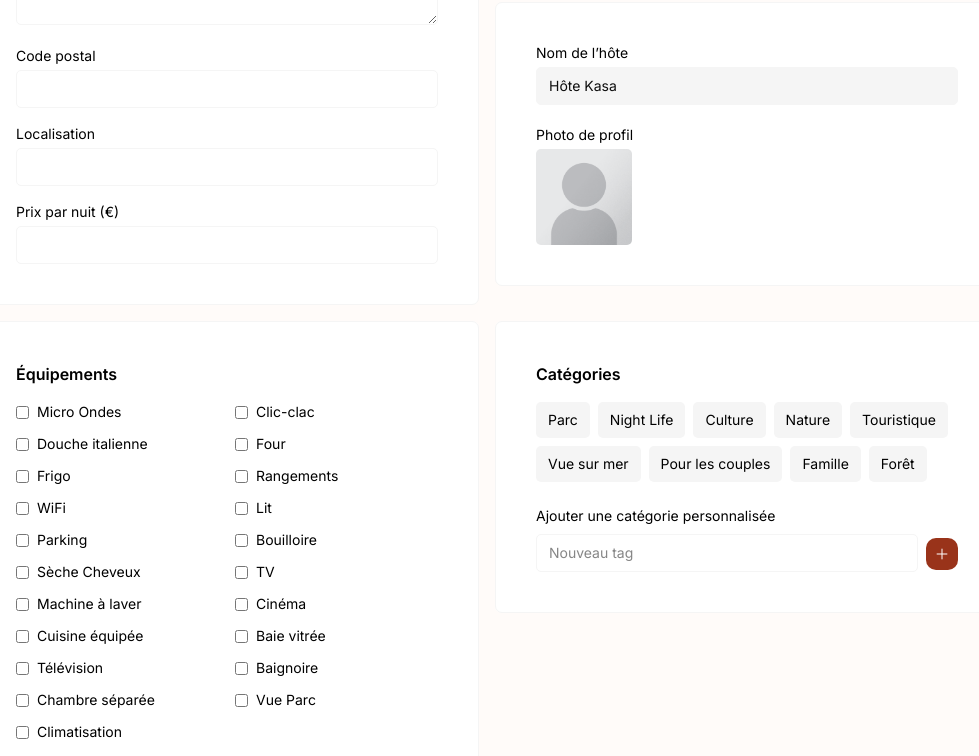
Scenario: CreatePropertyForm › reuses the custom category field to add multiple categories
(page scrolled)
Type "Terrasse" into the field named "Tag personnalisé 1".
click(727, 553); type("Terrasse")  # box [536,534,918,572]
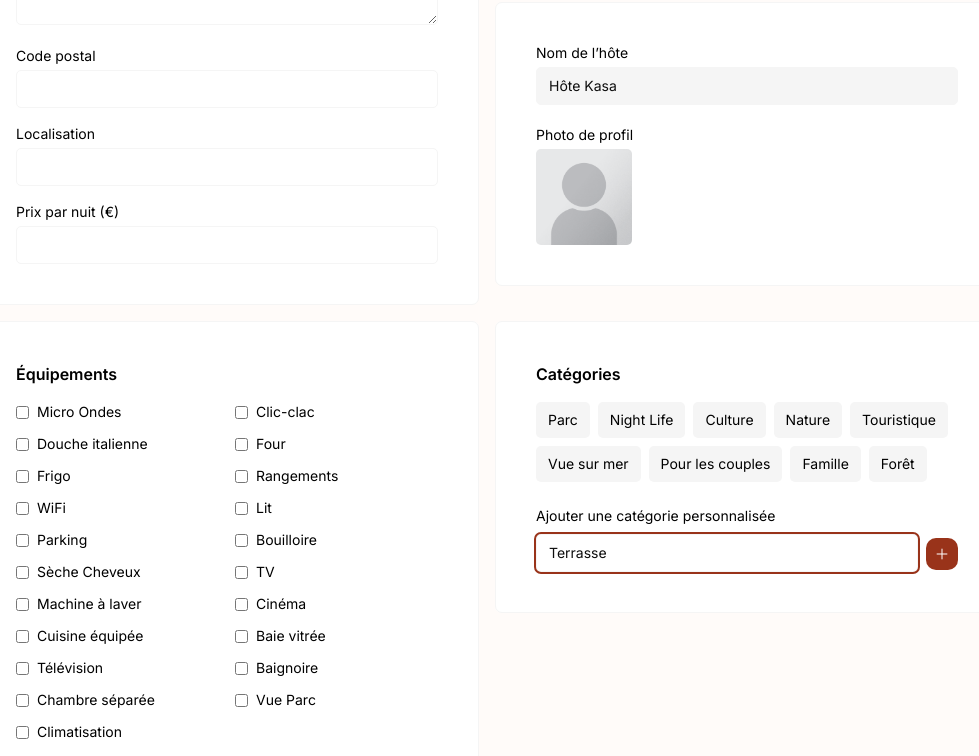
Click the button named "Ajouter ce tag".
click(942, 554)  # box [926,538,958,570]
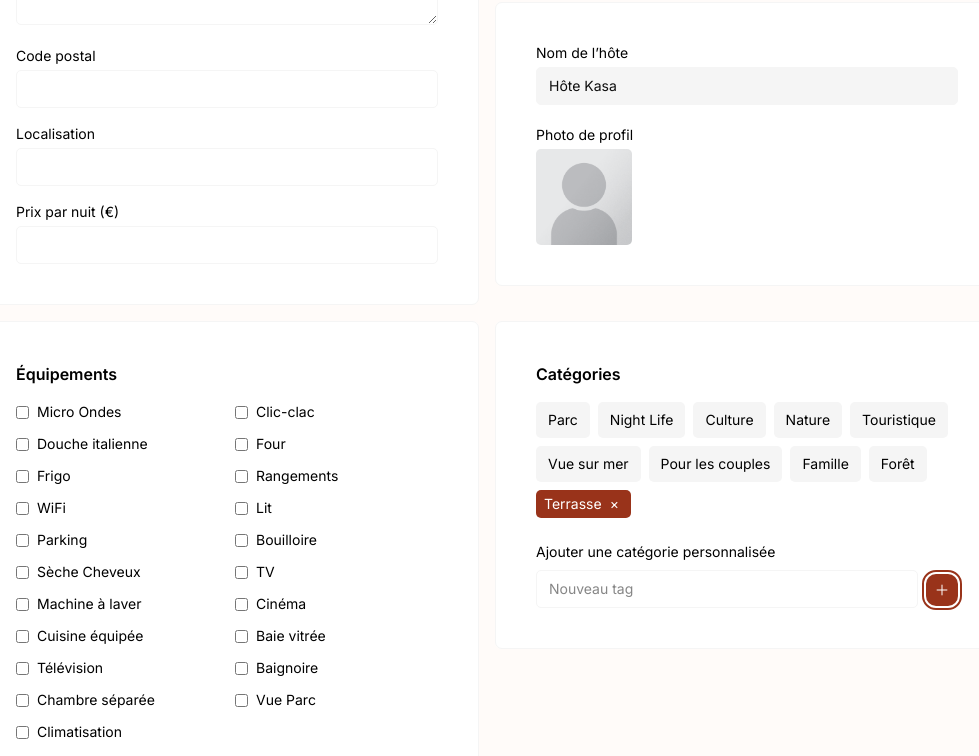
Expected: the field named "Tag personnalisé 1" is empty
Type "Balcon" into the field named "Tag personnalisé 1".
click(727, 589); type("Balcon")  # box [536,570,918,608]
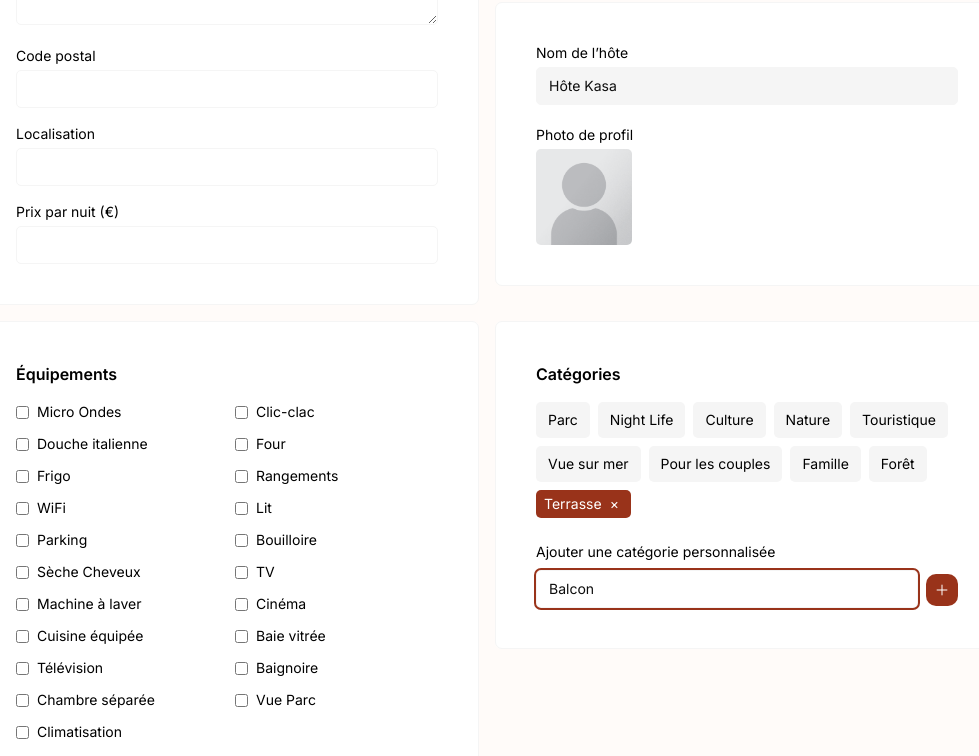
Click the button named "Ajouter ce tag".
click(942, 590)  # box [926,574,958,606]
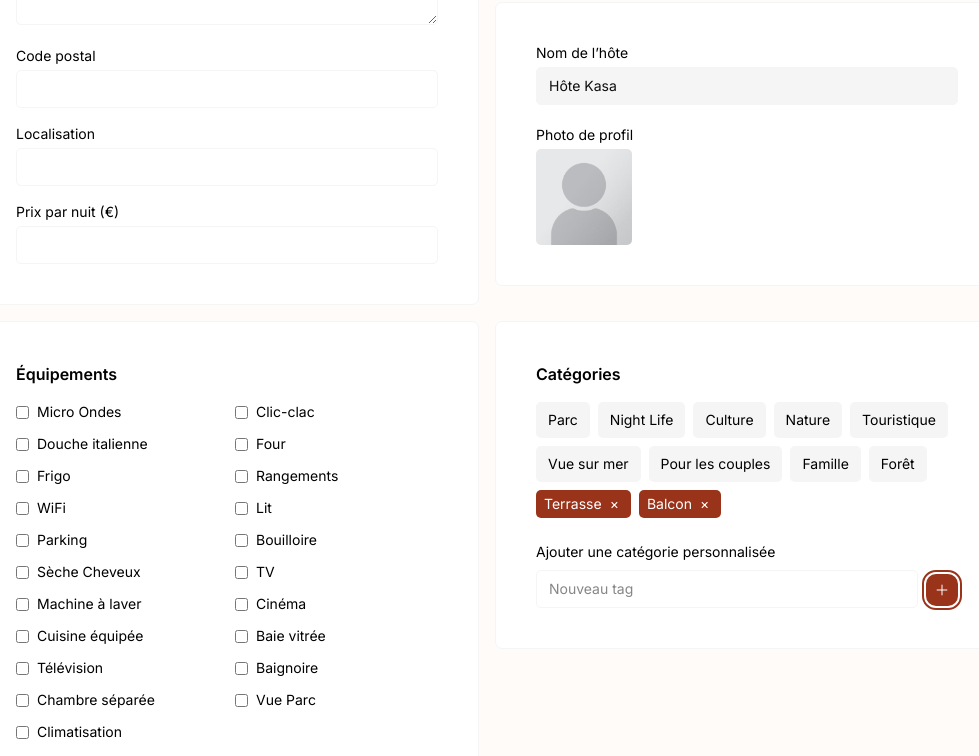
Expected: the button named "Retirer la catégorie Terrasse" is shown, [606,494,623,514]
Expected: the button named "Retirer la catégorie Balcon" is shown, [696,494,713,514]
Expected: the field named "Tag personnalisé 1" is empty, [536,570,918,608]
